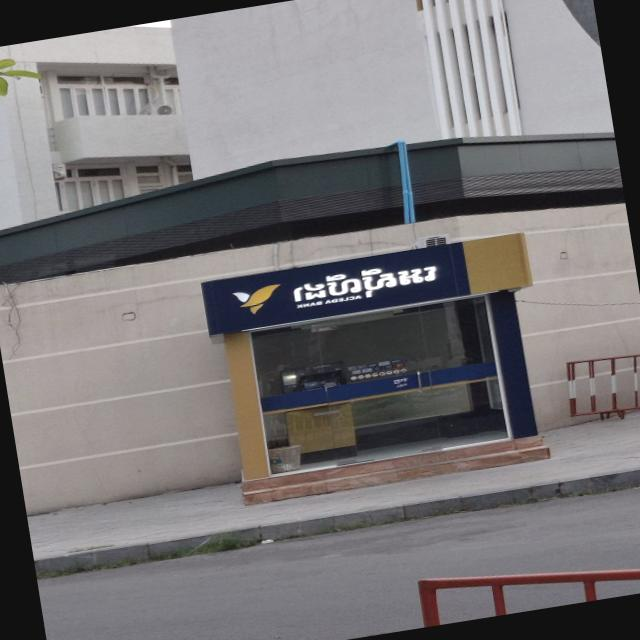Yolov11_80vkh: (267, 239, 482, 320)
